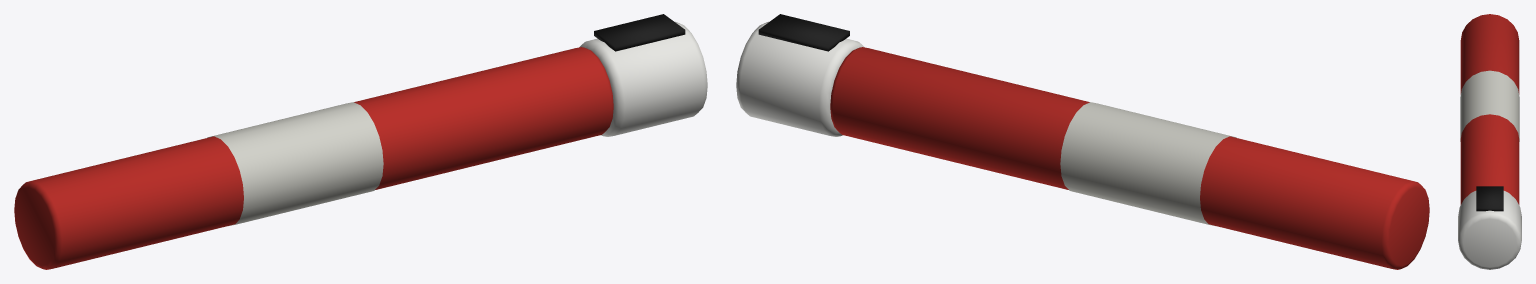
File: roadflare.glb
3 views of the same model, side by side, from view 1: azimuth 30°, elevation 25°; view 2: azimuth 150°, elevation 25°; view 3: azimuth 270°, elevation 25° (orthographic). The views are drawn at different scales.
Parts seen in each view (by area): view 1: tube, label.001, cap.003, striker; view 2: tube, label.001, cap.003, striker; view 3: tube, cap.003, label.001, striker.
Boxes of the visible parts, <box> form: tube: <box>14,47,613,269</box>; label.001: <box>207,102,383,226</box>; cap.003: <box>579,21,707,136</box>; striker: <box>594,14,685,51</box>; tube: <box>830,47,1429,269</box>; label.001: <box>1060,102,1236,226</box>; cap.003: <box>736,21,864,136</box>; striker: <box>758,14,849,51</box>; tube: <box>1460,14,1519,204</box>; cap.003: <box>1458,191,1521,269</box>; label.001: <box>1460,70,1519,141</box>; striker: <box>1476,186,1503,211</box>.
Size of the model in its own units: 0.28 by 0.0385 by 0.037.
